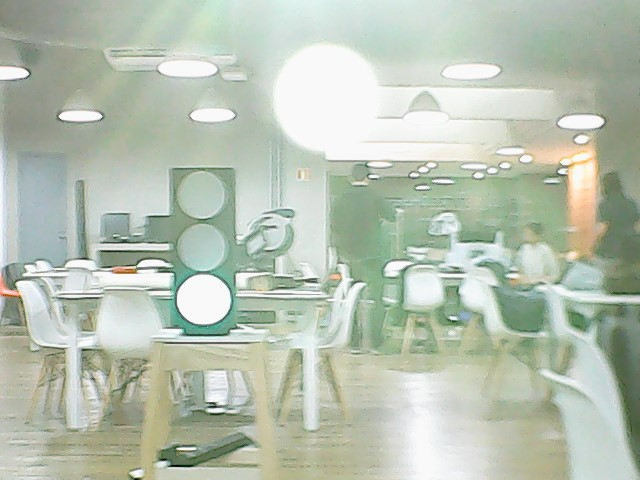verde: (166, 163, 244, 342)
